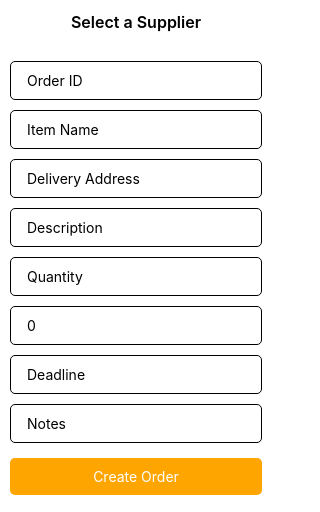
Test: order qty check
Clear the field with placeholder "Quantity" at [136, 276], box x1=10 y1=257 x2=262 y2=296
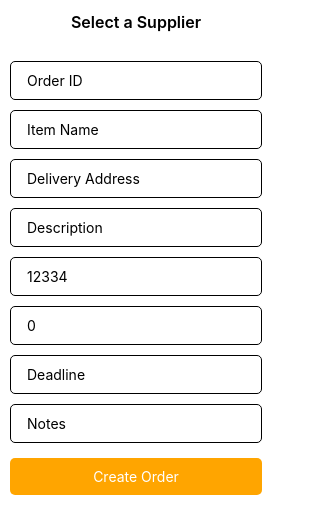
Check: the 5th field holds "12334", box x1=10 y1=257 x2=262 y2=296
